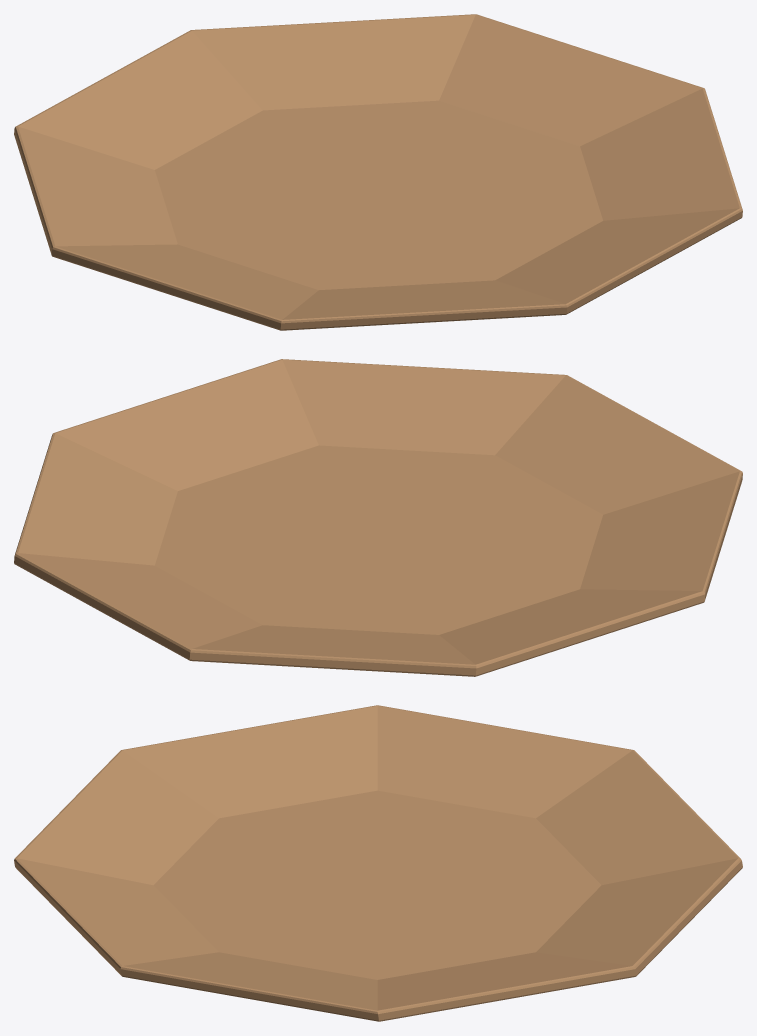
The model's file is Plate.fbx.
3 renders of one model, top to bottom at view 1: azimuth 30°, elevation 25°; view 2: azimuth 150°, elevation 25°; view 3: azimuth 270°, elevation 25°, orthographic. The views are drawn at different scales.
Visible parts, largest first — view 1: Plate1, Plate2, Plate5, Plate3, Plate4, Plate6, Plate7; view 2: Plate1, Plate7, Plate3, Plate5, Plate2, Plate4, Plate6; view 3: Plate1, Plate5, Plate6, Plate7, Plate4, Plate3, Plate2.
Boxes of the visible parts, left/top/right/bottom form: Plate1: left=16, top=14, right=475, bottom=171; Plate2: left=347, top=14, right=703, bottom=171; Plate5: left=51, top=171, right=418, bottom=330; Plate3: left=449, top=88, right=742, bottom=250; Plate4: left=281, top=160, right=602, bottom=289; Plate6: left=14, top=126, right=346, bottom=254; Plate7: left=280, top=221, right=683, bottom=330; Plate1: left=14, top=553, right=476, bottom=676; Plate7: left=319, top=364, right=741, bottom=514; Plate3: left=54, top=359, right=377, bottom=531; Plate5: left=346, top=471, right=742, bottom=599; Plate2: left=15, top=433, right=344, bottom=565; Plate4: left=272, top=445, right=602, bottom=563; Plate6: left=346, top=564, right=705, bottom=676; Plate1: left=441, top=750, right=742, bottom=975; Plate5: left=121, top=705, right=440, bottom=885; Plate6: left=377, top=705, right=633, bottom=885; Plate7: left=14, top=750, right=218, bottom=951; Plate4: left=153, top=811, right=440, bottom=952; Plate3: left=84, top=927, right=412, bottom=1021; Plate2: left=377, top=886, right=636, bottom=1021.
Size of the model in its own units: 200 by 11.48 by 200.
